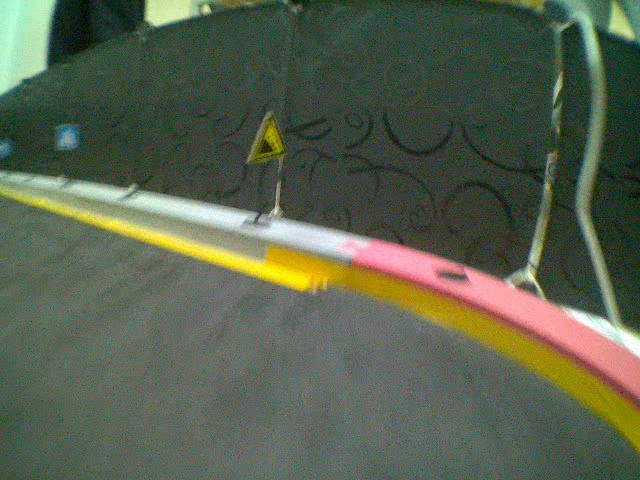fast: (243, 110, 290, 162)
